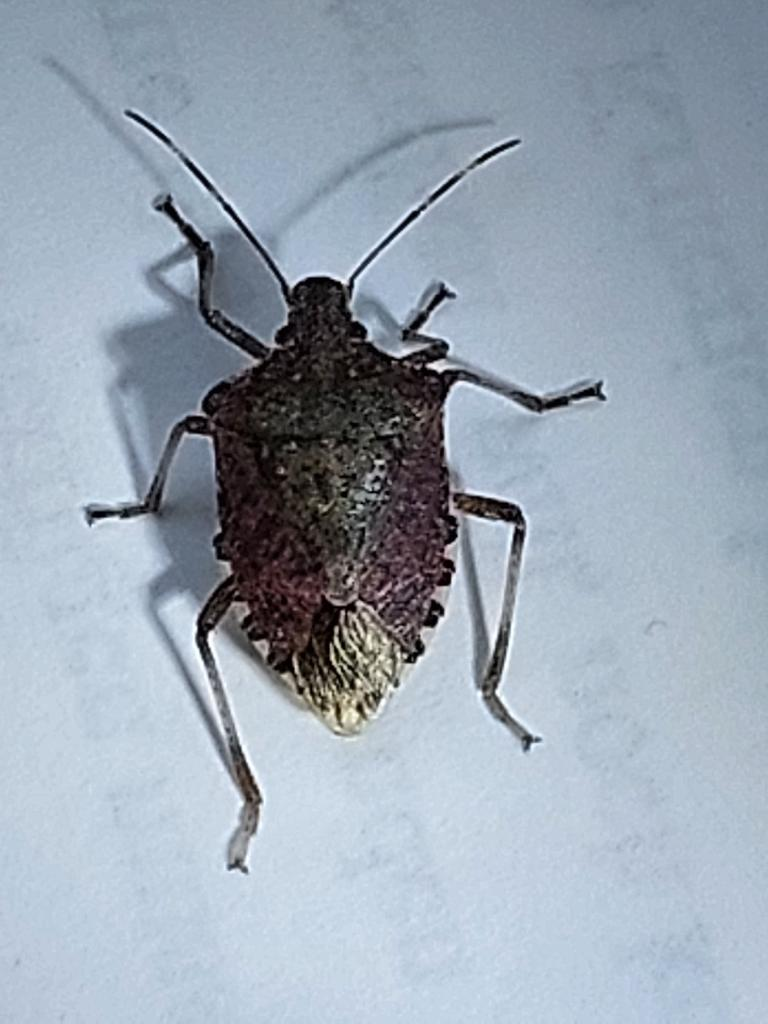stink_bugs: (0, 60, 768, 928)
